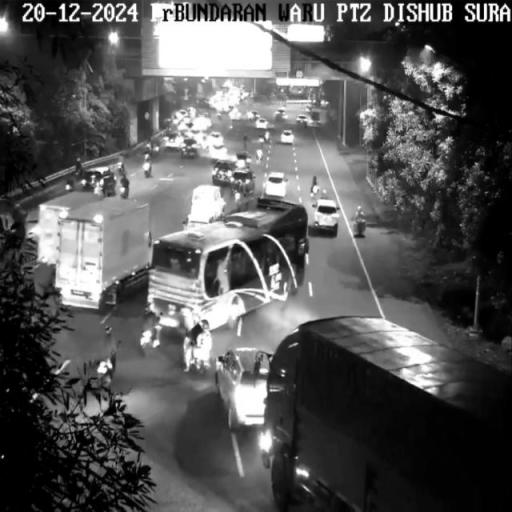bus: (143, 200, 305, 328)
car: (214, 350, 264, 426), (307, 200, 342, 240)
motorcycle: (94, 357, 117, 391), (141, 321, 162, 357), (187, 347, 212, 375)
truck: (269, 318, 512, 512), (59, 202, 153, 309), (38, 193, 100, 264)
